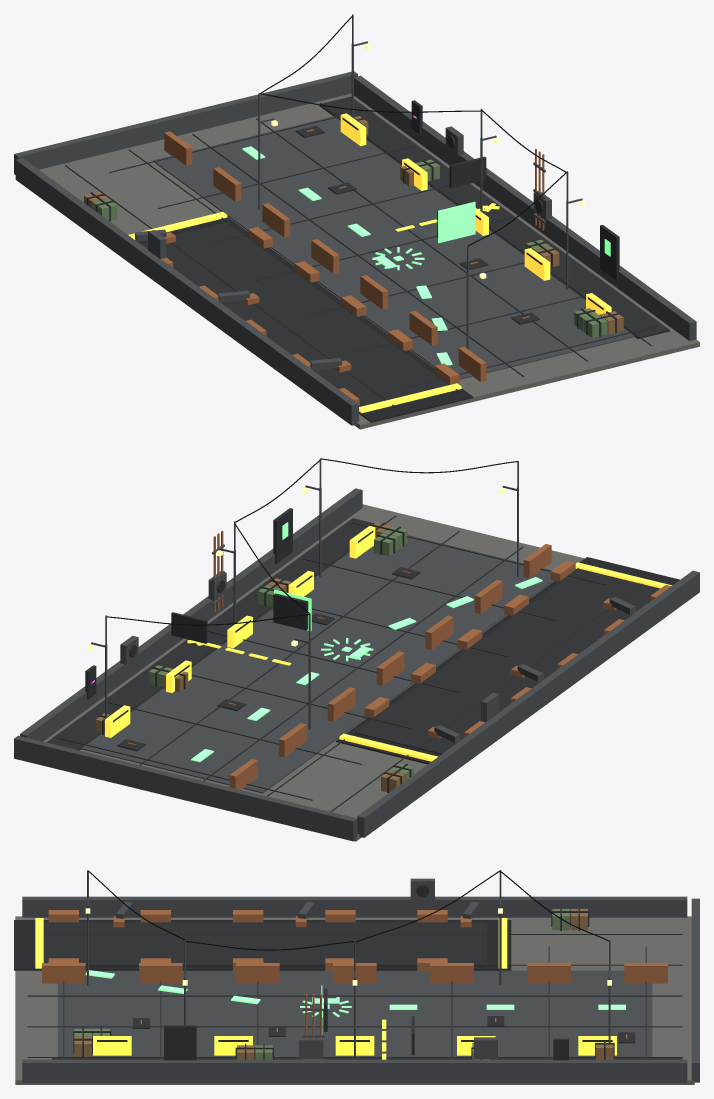
File: SM_DockBay_Floor_ExtractionDock.glb
3 views of the same model, one above another, from view 1: azimuth 30°, elevation 25°; view 2: azimuth 150°, elevation 25°; view 3: azimuth 270°, elevation 25° (orthographic).
Parts seen in each view (by area): view 1: DockBay_Floor_CenterInset, DockBay_Floor_MainSlab, ShipBerth_Outline_BackPlate, DockWall_West_LowCurb, DockBay_Floor_RightServiceStrip, DockWall_North_BackCurb, DockWall_East_ServiceCurb, DockBay_Floor_LeftBerthInset, Terminal_ExtractionDock_GlowFrame, Sign_ToBountyBoard_BackPanel, Door_Access_EastPanel, ShipBerth_EndMarker_01 (+10 smaller); view 2: DockBay_Floor_CenterInset, ShipBerth_Outline_BackPlate, DockBay_Floor_MainSlab, DockWall_West_LowCurb, DockWall_North_BackCurb, DockWall_East_ServiceCurb, DockBay_Floor_RightServiceStrip, DockBay_Floor_LeftBerthInset, Terminal_ExtractionDock_BackPanel, Sign_ToBountyBoard_BackPanel, Door_Access_EastPanel, ShipBerth_EndMarker_02 (+11 smaller); view 3: DockBay_Floor_CenterInset, ShipBerth_Outline_BackPlate, DockBay_Floor_MainSlab, DockWall_East_ServiceCurb, DockWall_West_LowCurb, DockBay_Floor_LeftBerthInset, DockWall_North_BackCurb, FloorPanel_Seam_Long_03, Door_Access_EastPanel, FloorPanel_Seam_Long_04, DockBay_Floor_RightServiceStrip, Barrier_WestLow_01 (+24 smaller).
Part boxes in pixels (bbox=[...]): DockBay_Floor_CenterInset: bbox=[153, 116, 634, 379]; DockBay_Floor_MainSlab: bbox=[39, 93, 699, 429]; ShipBerth_Outline_BackPlate: bbox=[140, 222, 448, 406]; DockWall_West_LowCurb: bbox=[15, 158, 358, 425]; DockBay_Floor_RightServiceStrip: bbox=[319, 96, 669, 339]; DockWall_North_BackCurb: bbox=[14, 71, 357, 174]; DockWall_East_ServiceCurb: bbox=[354, 75, 696, 340]; DockBay_Floor_LeftBerthInset: bbox=[135, 217, 473, 422]; Terminal_ExtractionDock_GlowFrame: bbox=[438, 201, 475, 243]; Sign_ToBountyBoard_BackPanel: bbox=[449, 156, 486, 188]; Door_Access_EastPanel: bbox=[600, 225, 619, 280]; ShipBerth_EndMarker_01: bbox=[359, 383, 461, 413]; DockBay_Floor_CenterInset: bbox=[81, 535, 553, 793]; ShipBerth_Outline_BackPlate: bbox=[355, 568, 660, 754]; DockBay_Floor_MainSlab: bbox=[43, 504, 584, 841]; DockWall_West_LowCurb: bbox=[357, 570, 699, 837]; DockWall_North_BackCurb: bbox=[14, 735, 357, 841]; DockWall_East_ServiceCurb: bbox=[20, 488, 362, 741]; DockBay_Floor_RightServiceStrip: bbox=[46, 518, 374, 750]; DockBay_Floor_LeftBerthInset: bbox=[336, 557, 679, 764]; Terminal_ExtractionDock_BackPanel: bbox=[273, 593, 308, 630]; Sign_ToBountyBoard_BackPanel: bbox=[171, 612, 207, 643]; Door_Access_EastPanel: bbox=[273, 508, 292, 563]; ShipBerth_EndMarker_02: bbox=[339, 733, 437, 761]; DockBay_Floor_CenterInset: bbox=[57, 970, 652, 1056]; ShipBerth_Outline_BackPlate: bbox=[43, 922, 487, 966]; DockBay_Floor_MainSlab: bbox=[15, 916, 694, 1084]; DockWall_East_ServiceCurb: bbox=[22, 1059, 687, 1082]; DockWall_West_LowCurb: bbox=[22, 896, 687, 917]; DockBay_Floor_LeftBerthInset: bbox=[14, 920, 511, 970]; DockWall_North_BackCurb: bbox=[691, 898, 699, 1082]; FloorPanel_Seam_Long_03: bbox=[27, 995, 682, 996]; Door_Access_EastPanel: bbox=[164, 1025, 196, 1060]; FloorPanel_Seam_Long_04: bbox=[27, 1026, 682, 1027]; DockBay_Floor_RightServiceStrip: bbox=[51, 1058, 682, 1059]; Barrier_WestLow_01: bbox=[42, 963, 85, 983].
Size of what is drawn, in the model's own units: 16.24 by 5.57 by 28.27.
